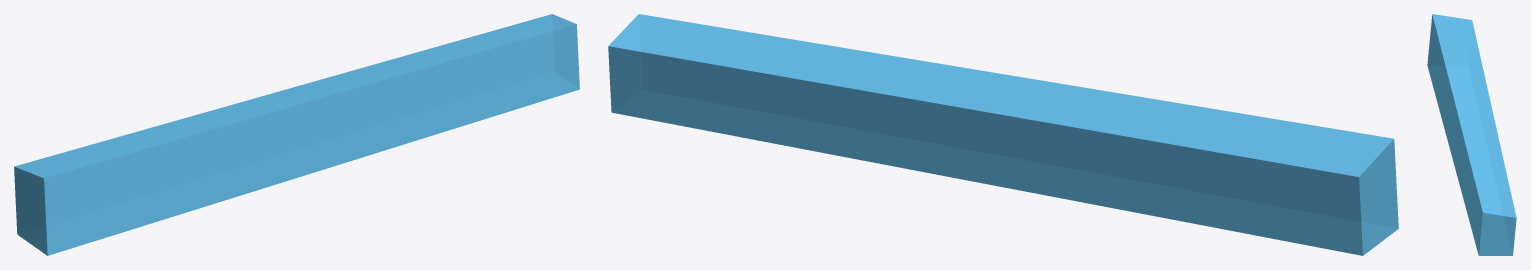
File: Event_421364160_HErechit_15.fbx
3 renders of one model, left to right at view 1: azimuth 30°, elevation 25°; view 2: azimuth 150°, elevation 25°; view 3: azimuth 270°, elevation 25°, orthographic. The views are drawn at different scales.
Parts seen in each view (by area): view 1: Model; view 2: Model; view 3: Model.
Part boxes in pixels (left/top/right/bottom): Model: left=14, top=14, right=579, bottom=255; Model: left=608, top=14, right=1398, bottom=255; Model: left=1427, top=14, right=1516, bottom=255.
Bounding box in the file's own units: 1.9 × 0.239 × 0.3763.
